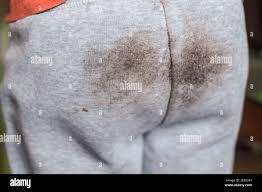earth: (109, 50, 157, 80), (180, 45, 209, 92)
